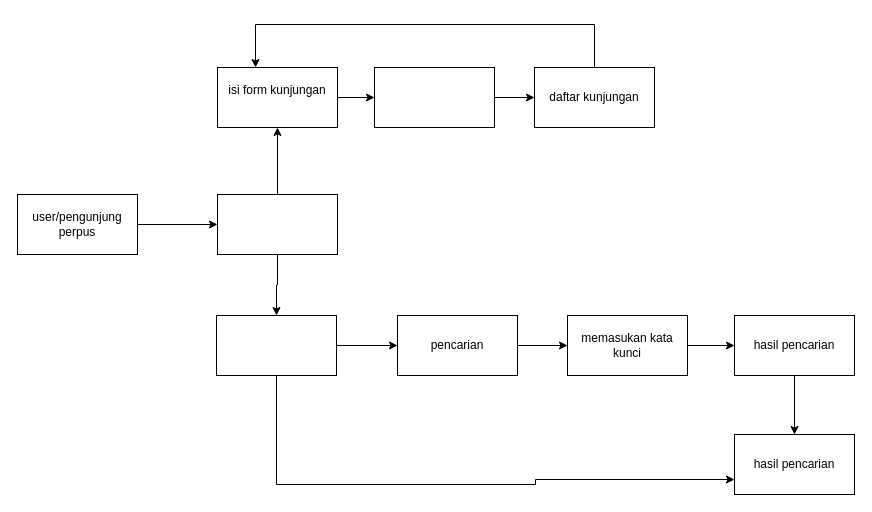
Image size: 872x512. Some labels were removed from this diagram. Each missing label, with the centre of its shape:
"daftar buku" goes at (x=276, y=345).
"kirim" goes at (x=434, y=97).
"masuk ke perpus" goes at (x=277, y=224).
